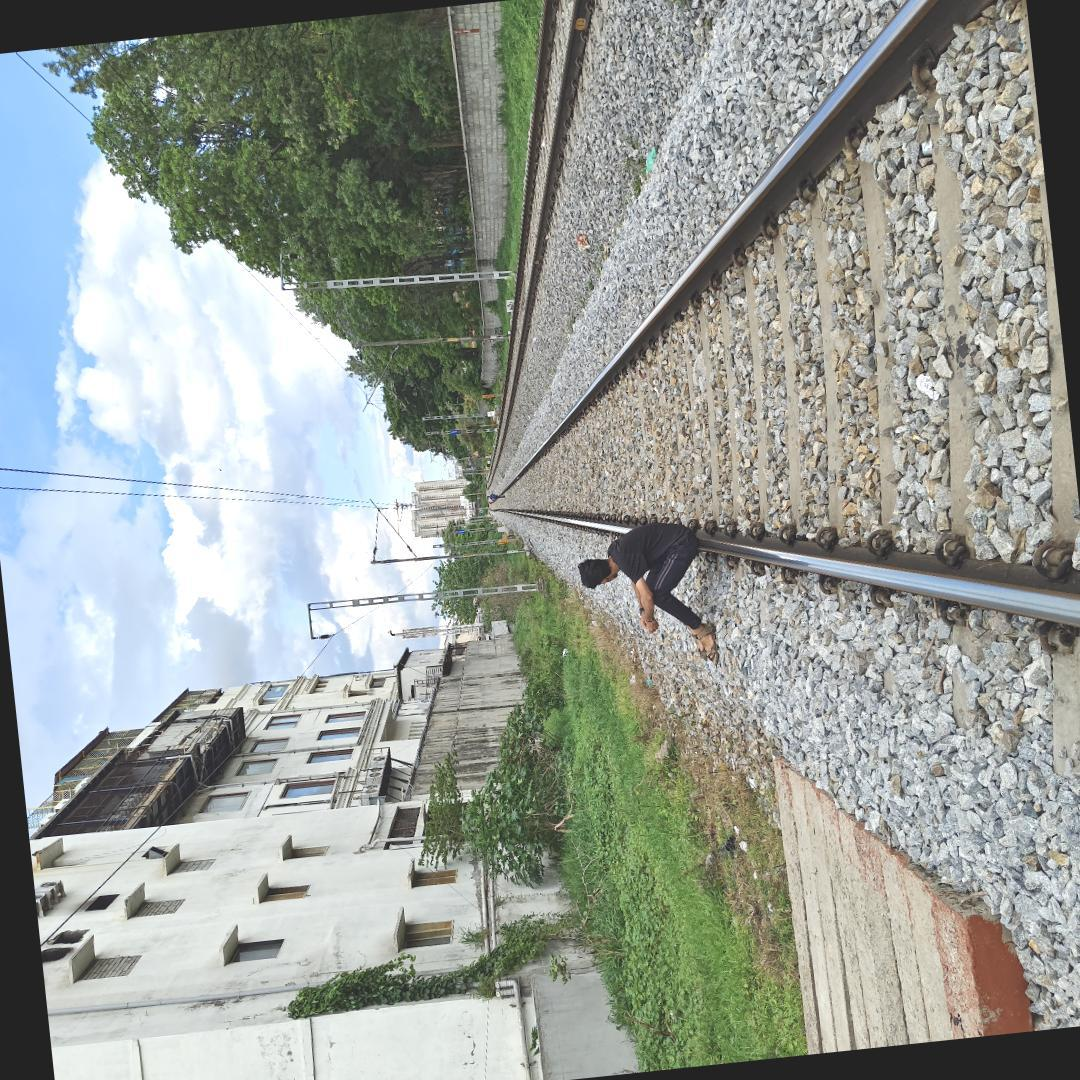sitting: (566, 513, 736, 684)
